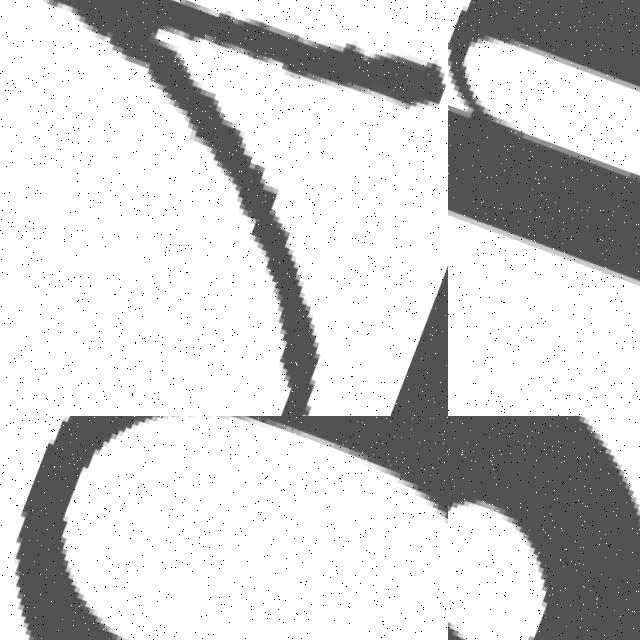D: (448, 0, 640, 408)
G: (448, 416, 640, 640)
O: (13, 416, 448, 640)
R: (0, 0, 448, 416)
